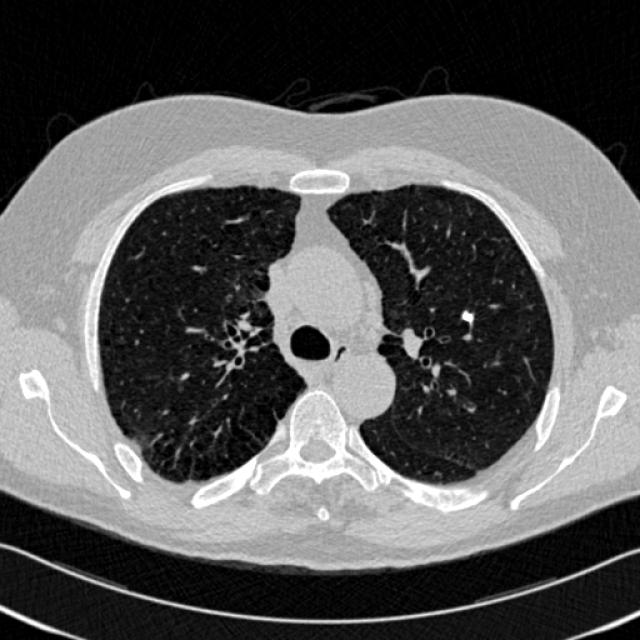nodule: (454, 304, 478, 328)
